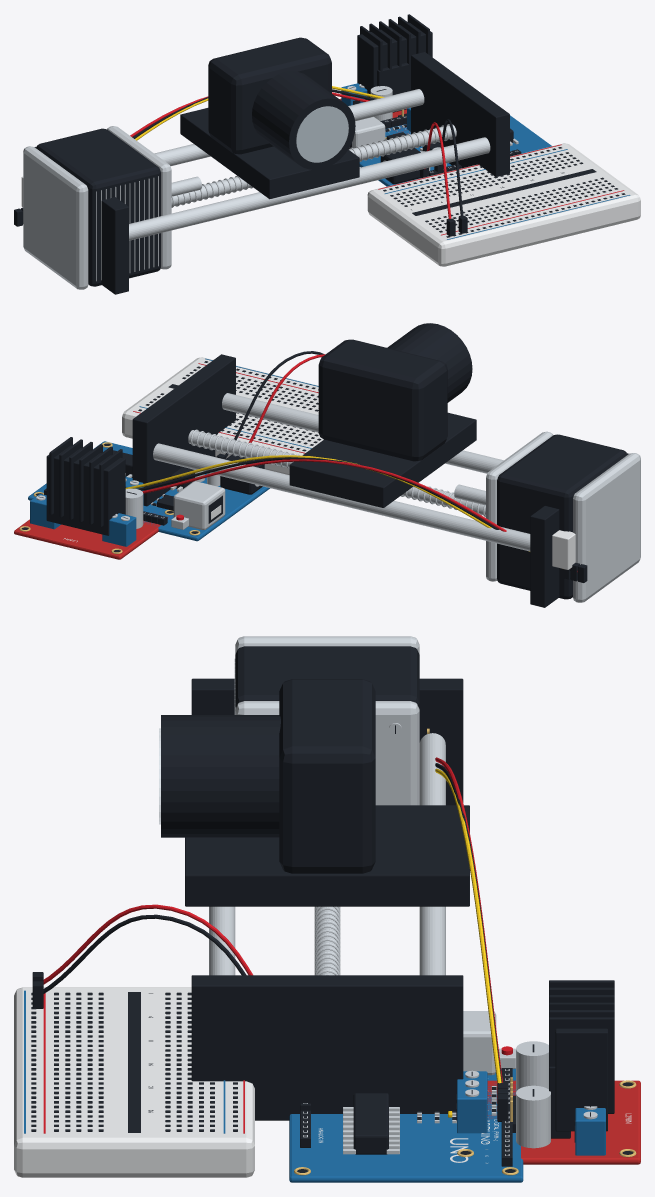
The model's file is camera-slider.glb.
3 views of the same model, one above another, from view 1: azimuth 30°, elevation 25°; view 2: azimuth 150°, elevation 25°; view 3: azimuth 270°, elevation 25° (orthographic). The views are drawn at different scales.
Parts seen in each view (by area): view 1: Project structure • black, breadboard.025 • white, stepper-motor.002 • silver, Project structure • silver, stepper-motor.002 • black, motor-driver.003 • black, breadboard.025 • black, Project structure • glass, Jumper connections • black, microcontroller.025 • blue, microcontroller.025 • black, microcontroller.025 • silver (+5 smaller); view 2: Project structure • black, Project structure • silver, stepper-motor.002 • silver, stepper-motor.002 • black, motor-driver.003 • black, breadboard.025 • white, motor-driver.003 • redPCB, microcontroller.025 • silver, microcontroller.025 • blue, Jumper connections • black, microcontroller.025 • black, Jumper connections • red (+5 smaller); view 3: Project structure • black, breadboard.025 • white, microcontroller.025 • blue, motor-driver.003 • black, stepper-motor.002 • black, stepper-motor.002 • silver, breadboard.025 • black, Project structure • silver, motor-driver.003 • redPCB, motor-driver.003 • silver, microcontroller.025 • black, microcontroller.025 • silver (+4 smaller).
Boxes of the visible parts, x1=… form: Project structure • black: x1=34, y1=37, x2=509, y2=294; breadboard.025 • white: x1=367, y1=143, x2=640, y2=266; stepper-motor.002 • silver: x1=23, y1=126, x2=201, y2=289; Project structure • silver: x1=129, y1=89, x2=490, y2=240; stepper-motor.002 • black: x1=36, y1=128, x2=160, y2=286; motor-driver.003 • black: x1=349, y1=14, x2=432, y2=139; breadboard.025 • black: x1=383, y1=147, x2=625, y2=237; Project structure • glass: x1=296, y1=106, x2=348, y2=162; Jumper connections • black: x1=14, y1=89, x2=467, y2=236; microcontroller.025 • blue: x1=359, y1=115, x2=551, y2=186; microcontroller.025 • black: x1=348, y1=115, x2=521, y2=184; microcontroller.025 • silver: x1=352, y1=116, x2=518, y2=172; Project structure • black: x1=132, y1=323, x2=628, y2=607; Project structure • silver: x1=153, y1=393, x2=530, y2=551; stepper-motor.002 • silver: x1=454, y1=431, x2=640, y2=602; stepper-motor.002 • black: x1=497, y1=434, x2=627, y2=599; motor-driver.003 • black: x1=21, y1=437, x2=173, y2=552; breadboard.025 • white: x1=122, y1=357, x2=323, y2=474; motor-driver.003 • redPCB: x1=14, y1=513, x2=167, y2=559; microcontroller.025 • silver: x1=125, y1=468, x2=259, y2=529; microcontroller.025 • blue: x1=28, y1=441, x2=269, y2=541; Jumper connections • black: x1=137, y1=351, x2=587, y2=582; microcontroller.025 • black: x1=35, y1=443, x2=264, y2=533; Jumper connections • red: x1=142, y1=354, x2=577, y2=572; Project structure • black: x1=161, y1=678, x2=469, y2=1120; breadboard.025 • white: x1=14, y1=987, x2=254, y2=1177; microcontroller.025 • blue: x1=289, y1=1068, x2=523, y2=1182; motor-driver.003 • black: x1=456, y1=980, x2=632, y2=1154; stepper-motor.002 • black: x1=235, y1=646, x2=419, y2=733; stepper-motor.002 • silver: x1=234, y1=636, x2=419, y2=805; breadboard.025 • black: x1=31, y1=992, x2=237, y2=1132; Project structure • silver: x1=209, y1=733, x2=445, y2=975; motor-driver.003 • redPCB: x1=487, y1=1080, x2=640, y2=1164; motor-driver.003 • silver: x1=465, y1=1041, x2=597, y2=1148; microcontroller.025 • black: x1=297, y1=1068, x2=515, y2=1172; microcontroller.025 • silver: x1=303, y1=1011, x2=515, y2=1155.
Size of the model in its own units: 212 by 65 by 143.
